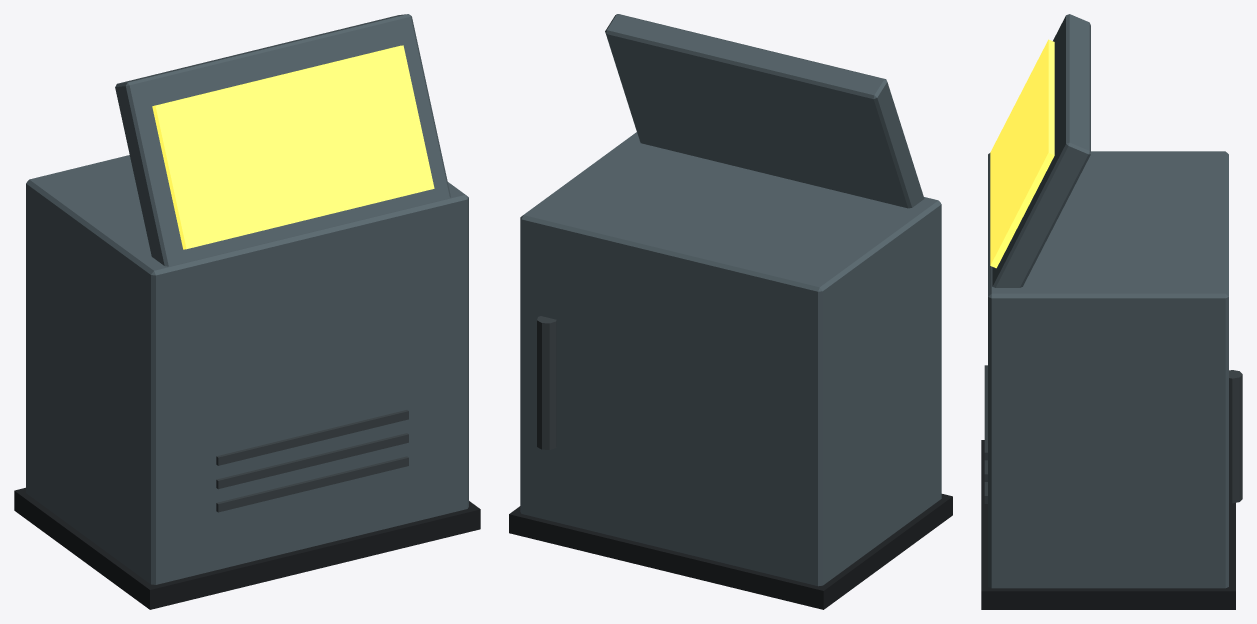
The model's file is lab_terminal_power_a.glb.
The picture shows the model from 3 angles, left to right: view 1: azimuth 30°, elevation 25°; view 2: azimuth 150°, elevation 25°; view 3: azimuth 270°, elevation 25°; orthographic projection. The views are drawn at different scales.
Parts seen in each view (by area): view 1: lab_terminal_power_a, emit_screen; view 2: lab_terminal_power_a; view 3: lab_terminal_power_a, emit_screen.
Part boxes in pixels (bbox=[...]): lab_terminal_power_a: bbox=[14, 14, 480, 609]; emit_screen: bbox=[152, 45, 434, 249]; lab_terminal_power_a: bbox=[509, 14, 952, 609]; lab_terminal_power_a: bbox=[981, 14, 1242, 609]; emit_screen: bbox=[990, 39, 1054, 268].
Bounding box in the file's own units: 1.04 × 1.46 × 0.76.
